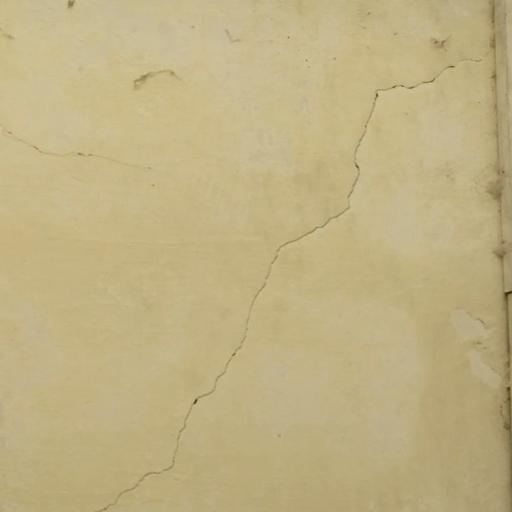minor_crack: (100, 40, 512, 512), (4, 98, 177, 189)
